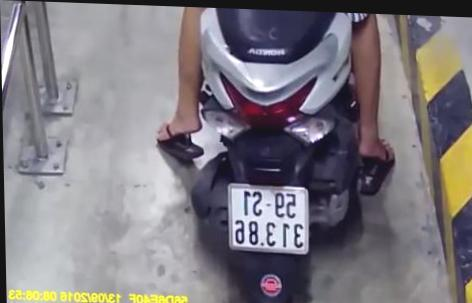License_Plate: (220, 178, 315, 258)
